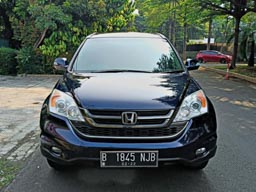plat: (100, 151, 157, 160)
